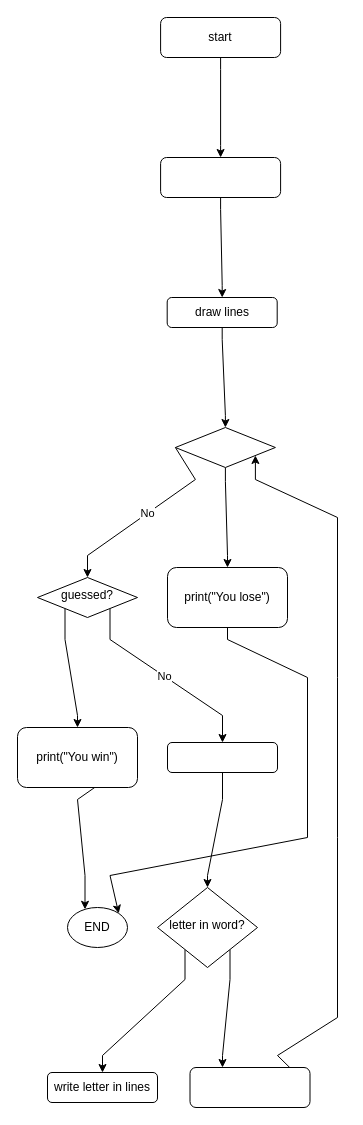
Image size: 363x1125. Some labels were removed from this diagram. The shapes that lost their labels are listed below. From the top down, each one's centre as x and y in pixels, then its label:
At (220,177): "randomly select word".
At (224,447): "hanged?".
At (222,757): "ask for letter".
At (249,1087): "add path to drawing".
